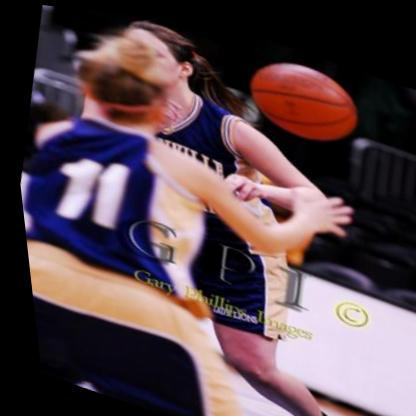basketball: (239, 41, 365, 147)
